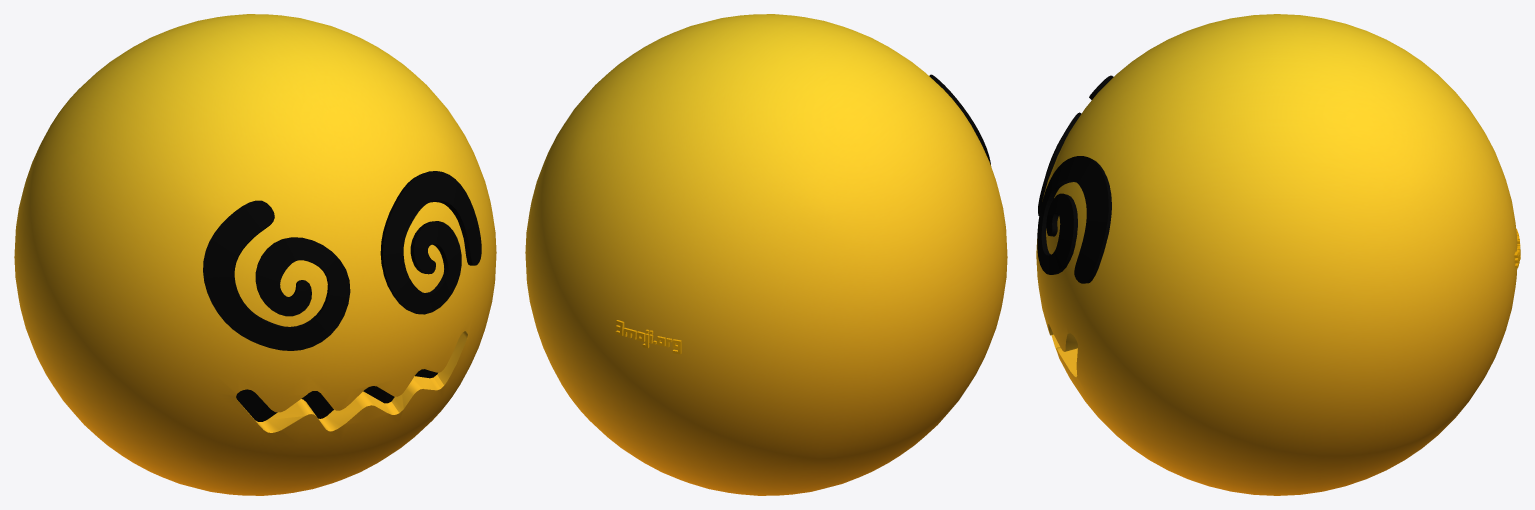
File: face_with_spiral_eyes.gltf
3 views of the same model, side by side, from view 1: azimuth 30°, elevation 25°; view 2: azimuth 150°, elevation 25°; view 3: azimuth 270°, elevation 25° (orthographic).
Parts seen in each view (by area): view 1: Ball.126; view 2: Ball.126; view 3: Ball.126.
Part boxes in pixels (x1,y1,x2,y2): Ball.126: (14,14,496,495); Ball.126: (525,14,1007,495); Ball.126: (1036,14,1520,495).
Size of the model in its own units: 1.69 by 1.69 by 1.7.
2 materials, 2 textured.
